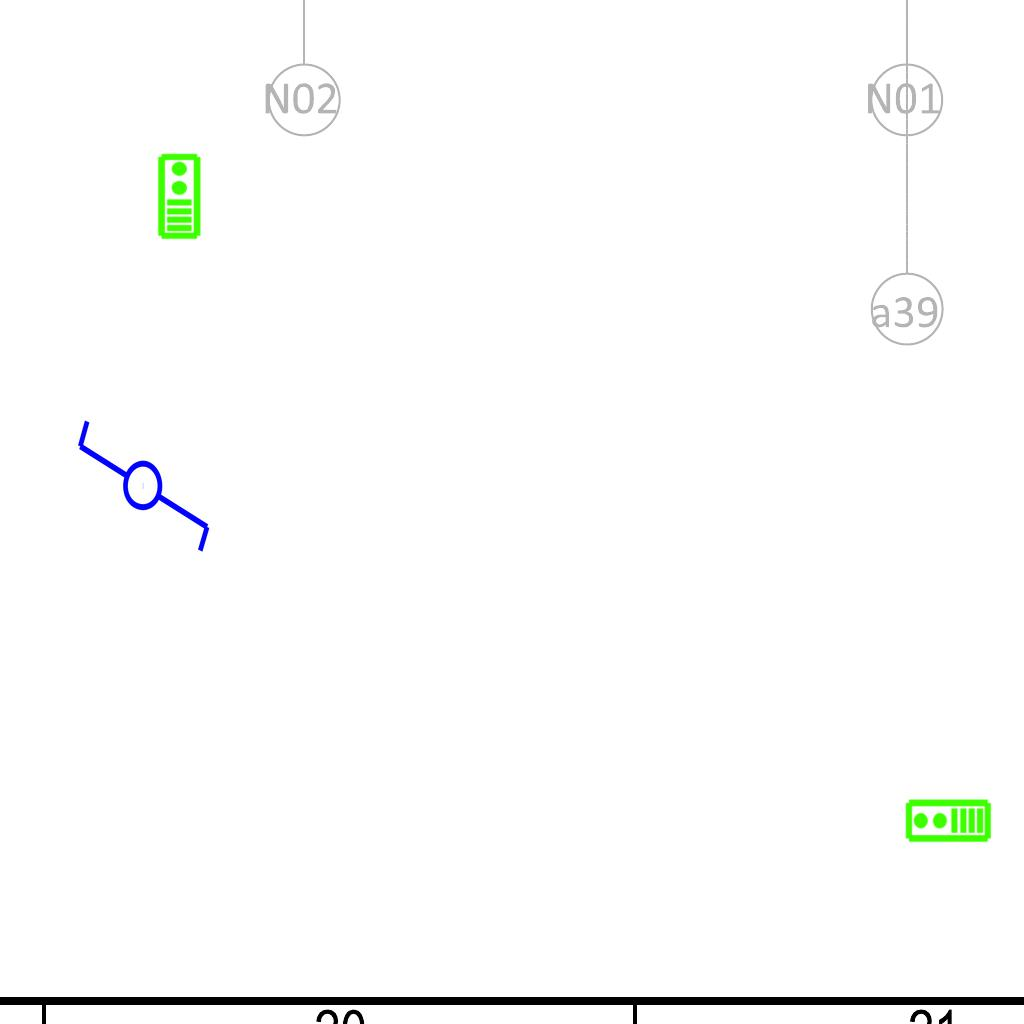Gegensprechanlage_mit_Video: (155, 152, 202, 240), (904, 798, 992, 845)
Wechselschalter: (73, 399, 217, 556)
